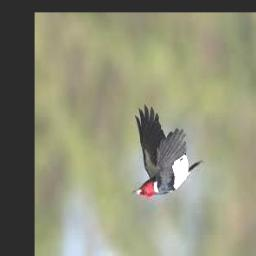Woodpecker: (132, 106, 204, 199)
